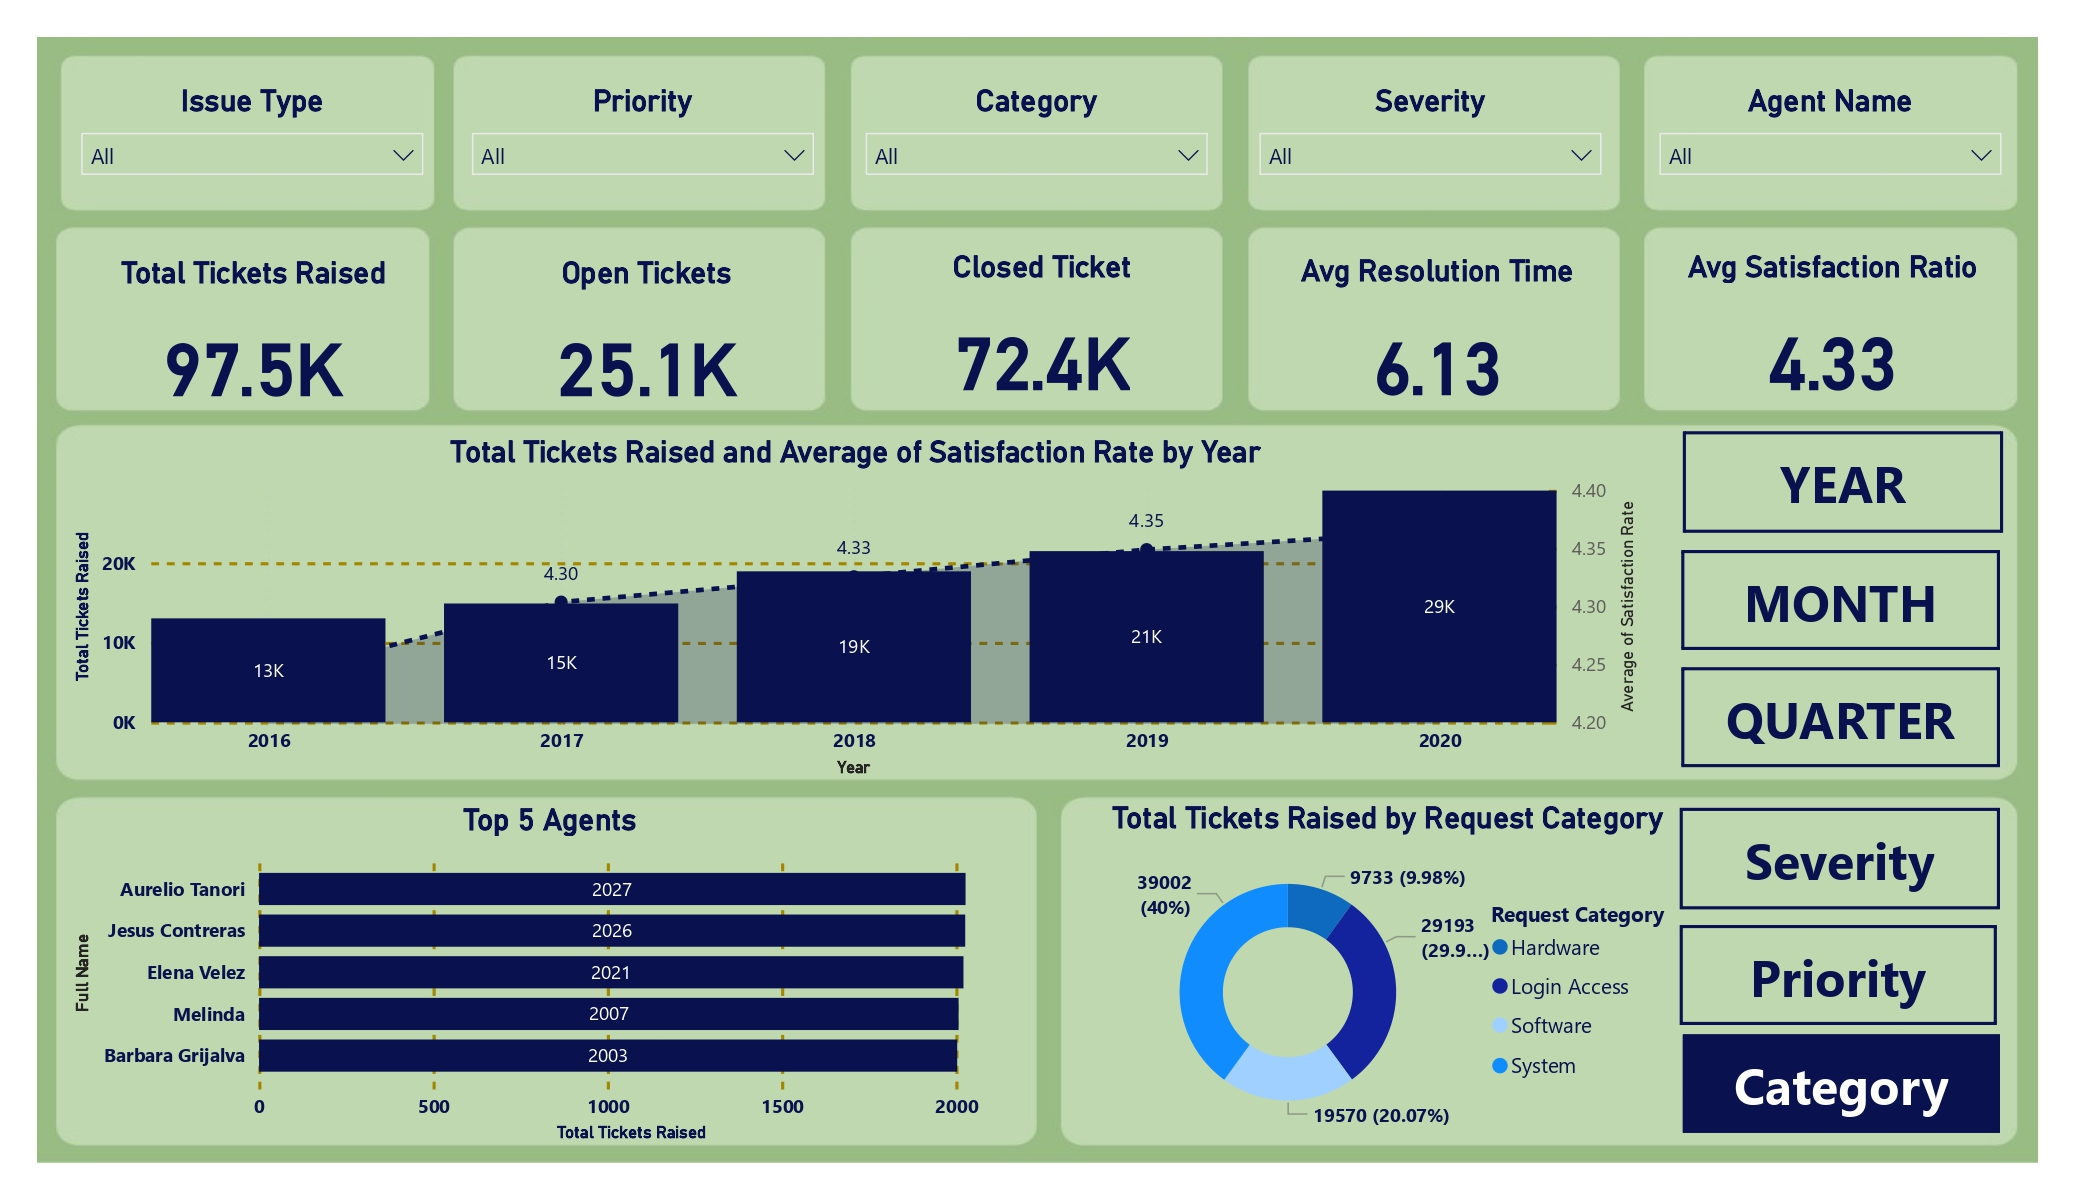

The dashboard page shown, as its layout file describes it:
{"tool":"powerbi","page":{"name":"Overview(yearly)","canvas":[1280,720],"ordinal":0},"visuals":[{"type":"slicer","title":"Issue Type","fields":{"Values":["Tickets1.Issue Type"]},"box":[18.1,29,238.9,71.2],"z":0},{"type":"slicer","title":"Category","fields":{"Values":["Tickets1.Request Category"]},"box":[520,29,238.9,71.2],"z":1000},{"type":"slicer","title":"Severity","fields":{"Values":["Tickets1.Severity"]},"box":[772.1,29,238.9,71.2],"z":2000},{"type":"slicer","title":"Agent Name","fields":{"Values":["IT_Agents.Full Name"]},"box":[1027.9,29,238.9,71.2],"z":3000},{"type":"slicer","title":"Priority","fields":{"Values":["Tickets1.Priority"]},"box":[267.8,29,238.9,71.2],"z":4000},{"type":"cardVisual","title":"Total Tickets Raised","fields":{"Data":["_Measures.Total Tickets Raised"]},"box":[17.5,138.8,240,112.5],"z":5000},{"type":"cardVisual","title":"Open Tickets","fields":{"Data":["_Measures.Total Tickets Raised"]},"box":[270.3,138.8,240,97.5],"z":6000},{"type":"cardVisual","title":"Closed Ticket","fields":{"Data":["_Measures.Total Tickets Raised"]},"box":[523.1,135,240,97.5],"z":7000},{"type":"cardVisual","title":"Avg Resolution Time","fields":{"Data":["Avg(Tickets1.Resolution Time (Days))"]},"box":[775.9,137.5,240,103.8],"z":8000},{"type":"cardVisual","title":"Avg Satisfaction Ratio","fields":{"Data":["Avg(Tickets1.Satisfaction Rate)"]},"box":[1028.8,135,240,105],"z":9000},{"type":"clusteredBarChart","title":"Top 5 Agents","fields":{"Y":["_Measures.Total Tickets Raised"],"Category":["IT_Agents.Full Name"]},"box":[17.8,488.5,620.2,223.7],"z":11000},{"type":"donutChart","fields":{"Category":["Tickets1.Severity"],"Y":["_Measures.Total Tickets Raised"]},"box":[657.5,488.8,396.2,223.8],"z":12000},{"type":"actionButton","title":"Month Enable","box":[1055,327.5,203.8,63.8],"z":14000},{"type":"lineClusteredColumnComboChart","title":"Total Tickets Raised and Average of Satisfaction Rate by Month","fields":{"Category":["Tickets1.Date.Variation.Date Hierarchy.Month"],"Y":["_Measures.Total Tickets Raised"],"Y2":["Avg(Tickets1.Satisfaction Rate)"]},"box":[15,253.8,1010,223.8],"z":17000},{"type":"actionButton","title":"Year Disable","box":[1053.3,251.7,205,65],"z":23000},{"type":"actionButton","title":"Quarter Disable","box":[1052.3,403.3,203.3,63.3],"z":25000},{"type":"actionButton","title":"Severity Disable","box":[941.4,535.7,205.7,65.7],"z":26000},{"type":"actionButton","title":"Priority  Disable","box":[1050.7,568.3,203.3,63.3],"z":27000},{"type":"actionButton","title":"Category Disable","box":[1055,638.3,203.3,63.3],"z":28000}]}

Visuals, with their boxes on the page's 1280x720 design canvas (x1, y1, x2, y2). These are canvas units, not pixel positions in the 2075x1200 screenshot, which may show the page scaled, cropped or inside an application window:
"Issue Type" slicer: x1=18 y1=29 x2=257 y2=100
"Category" slicer: x1=520 y1=29 x2=759 y2=100
"Severity" slicer: x1=772 y1=29 x2=1011 y2=100
"Agent Name" slicer: x1=1028 y1=29 x2=1267 y2=100
"Priority" slicer: x1=268 y1=29 x2=507 y2=100
"Total Tickets Raised" cardVisual: x1=18 y1=139 x2=258 y2=251
"Open Tickets" cardVisual: x1=270 y1=139 x2=510 y2=236
"Closed Ticket" cardVisual: x1=523 y1=135 x2=763 y2=232
"Avg Resolution Time" cardVisual: x1=776 y1=138 x2=1016 y2=241
"Avg Satisfaction Ratio" cardVisual: x1=1029 y1=135 x2=1269 y2=240
"Top 5 Agents" clusteredBarChart: x1=18 y1=488 x2=638 y2=712
donutChart - Tickets1.Severity x _Measures.Total Tickets Raised: x1=658 y1=489 x2=1054 y2=713
"Month Enable" actionButton: x1=1055 y1=328 x2=1259 y2=391
"Total Tickets Raised and Average of Satisfaction Rate by Month" lineClusteredColumnComboChart: x1=15 y1=254 x2=1025 y2=478
"Year Disable" actionButton: x1=1053 y1=252 x2=1258 y2=317
"Quarter Disable" actionButton: x1=1052 y1=403 x2=1256 y2=467
"Severity Disable" actionButton: x1=941 y1=536 x2=1147 y2=601
"Priority  Disable" actionButton: x1=1051 y1=568 x2=1254 y2=632
"Category Disable" actionButton: x1=1055 y1=638 x2=1258 y2=702
